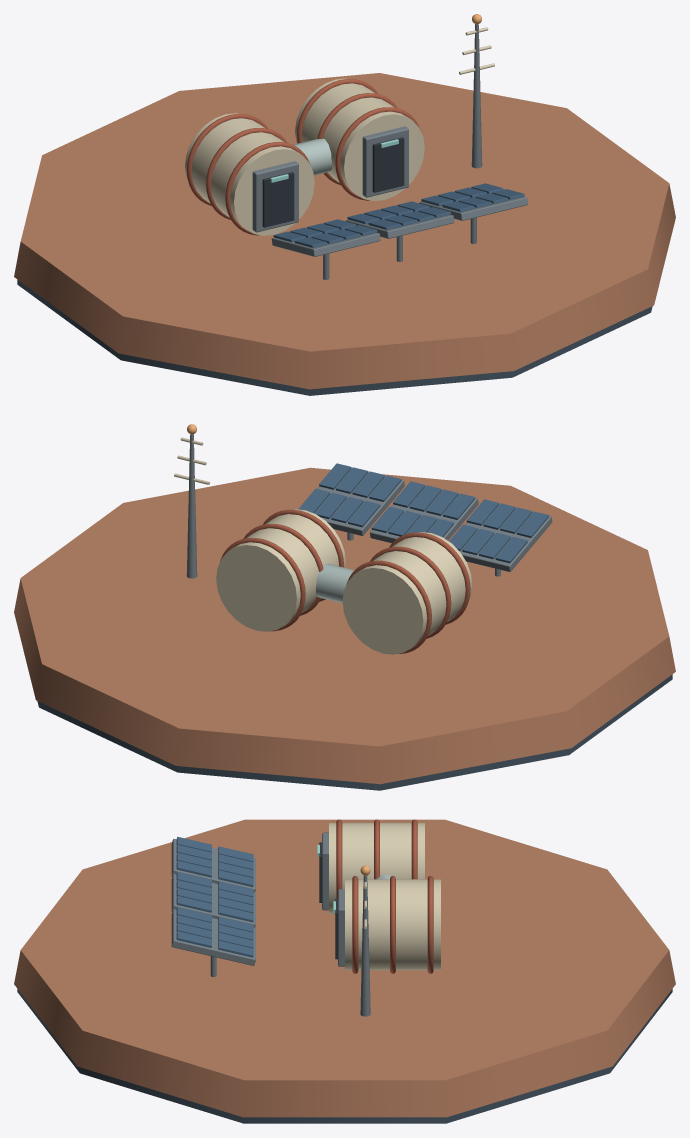
The model's file is redkite.glb.
The picture shows the model from 3 angles, top to bottom: view 1: azimuth 30°, elevation 25°; view 2: azimuth 150°, elevation 25°; view 3: azimuth 270°, elevation 25°; orthographic projection. The views are drawn at different scales.
Parts seen in each view (by area): view 1: Terrain cutaway, Pressure tent (×2), Restraint hoop (×6), Substrate, Sealed door (×2), Airlock surround (×2), Panel backing (×3), Antenna mast, Pressure link; view 2: Terrain cutaway, Pressure tent (×2), Restraint hoop (×6), Substrate, Panel backing (×3), Antenna mast, Pressure link; view 3: Terrain cutaway, Pressure tent (×2), Substrate, Panel backing (×3), Restraint hoop (×4), Airlock surround (×2), Antenna mast.
Boxes of the visible parts, x1,y1,x2,y2 form: Terrain cutaway: [14, 73, 675, 389]; Pressure tent (×2): [185, 78, 424, 235]; Restraint hoop (×6): [186, 79, 420, 235]; Substrate: [17, 279, 652, 395]; Sealed door (×2): [262, 137, 404, 227]; Airlock surround (×2): [252, 126, 408, 232]; Panel backing (×3): [271, 196, 527, 256]; Antenna mast: [471, 24, 482, 168]; Pressure link: [293, 138, 331, 175]; Terrain cutaway: [14, 467, 675, 784]; Pressure tent (×2): [216, 509, 472, 654]; Restraint hoop (×6): [220, 509, 470, 653]; Substrate: [37, 674, 672, 790]; Panel backing (×3): [314, 467, 552, 571]; Antenna mast: [186, 434, 197, 578]; Pressure link: [316, 563, 354, 603]; Terrain cutaway: [14, 819, 675, 1117]; Pressure tent (×2): [329, 823, 440, 970]; Substrate: [17, 989, 672, 1123]; Panel backing (×3): [171, 839, 255, 965]; Restraint hoop (×4): [336, 819, 433, 973]; Airlock surround (×2): [322, 832, 344, 966]; Antenna mast: [360, 875, 370, 1016].
Bounding box in the file's own units: 5.52 × 1.87 × 5.8.
